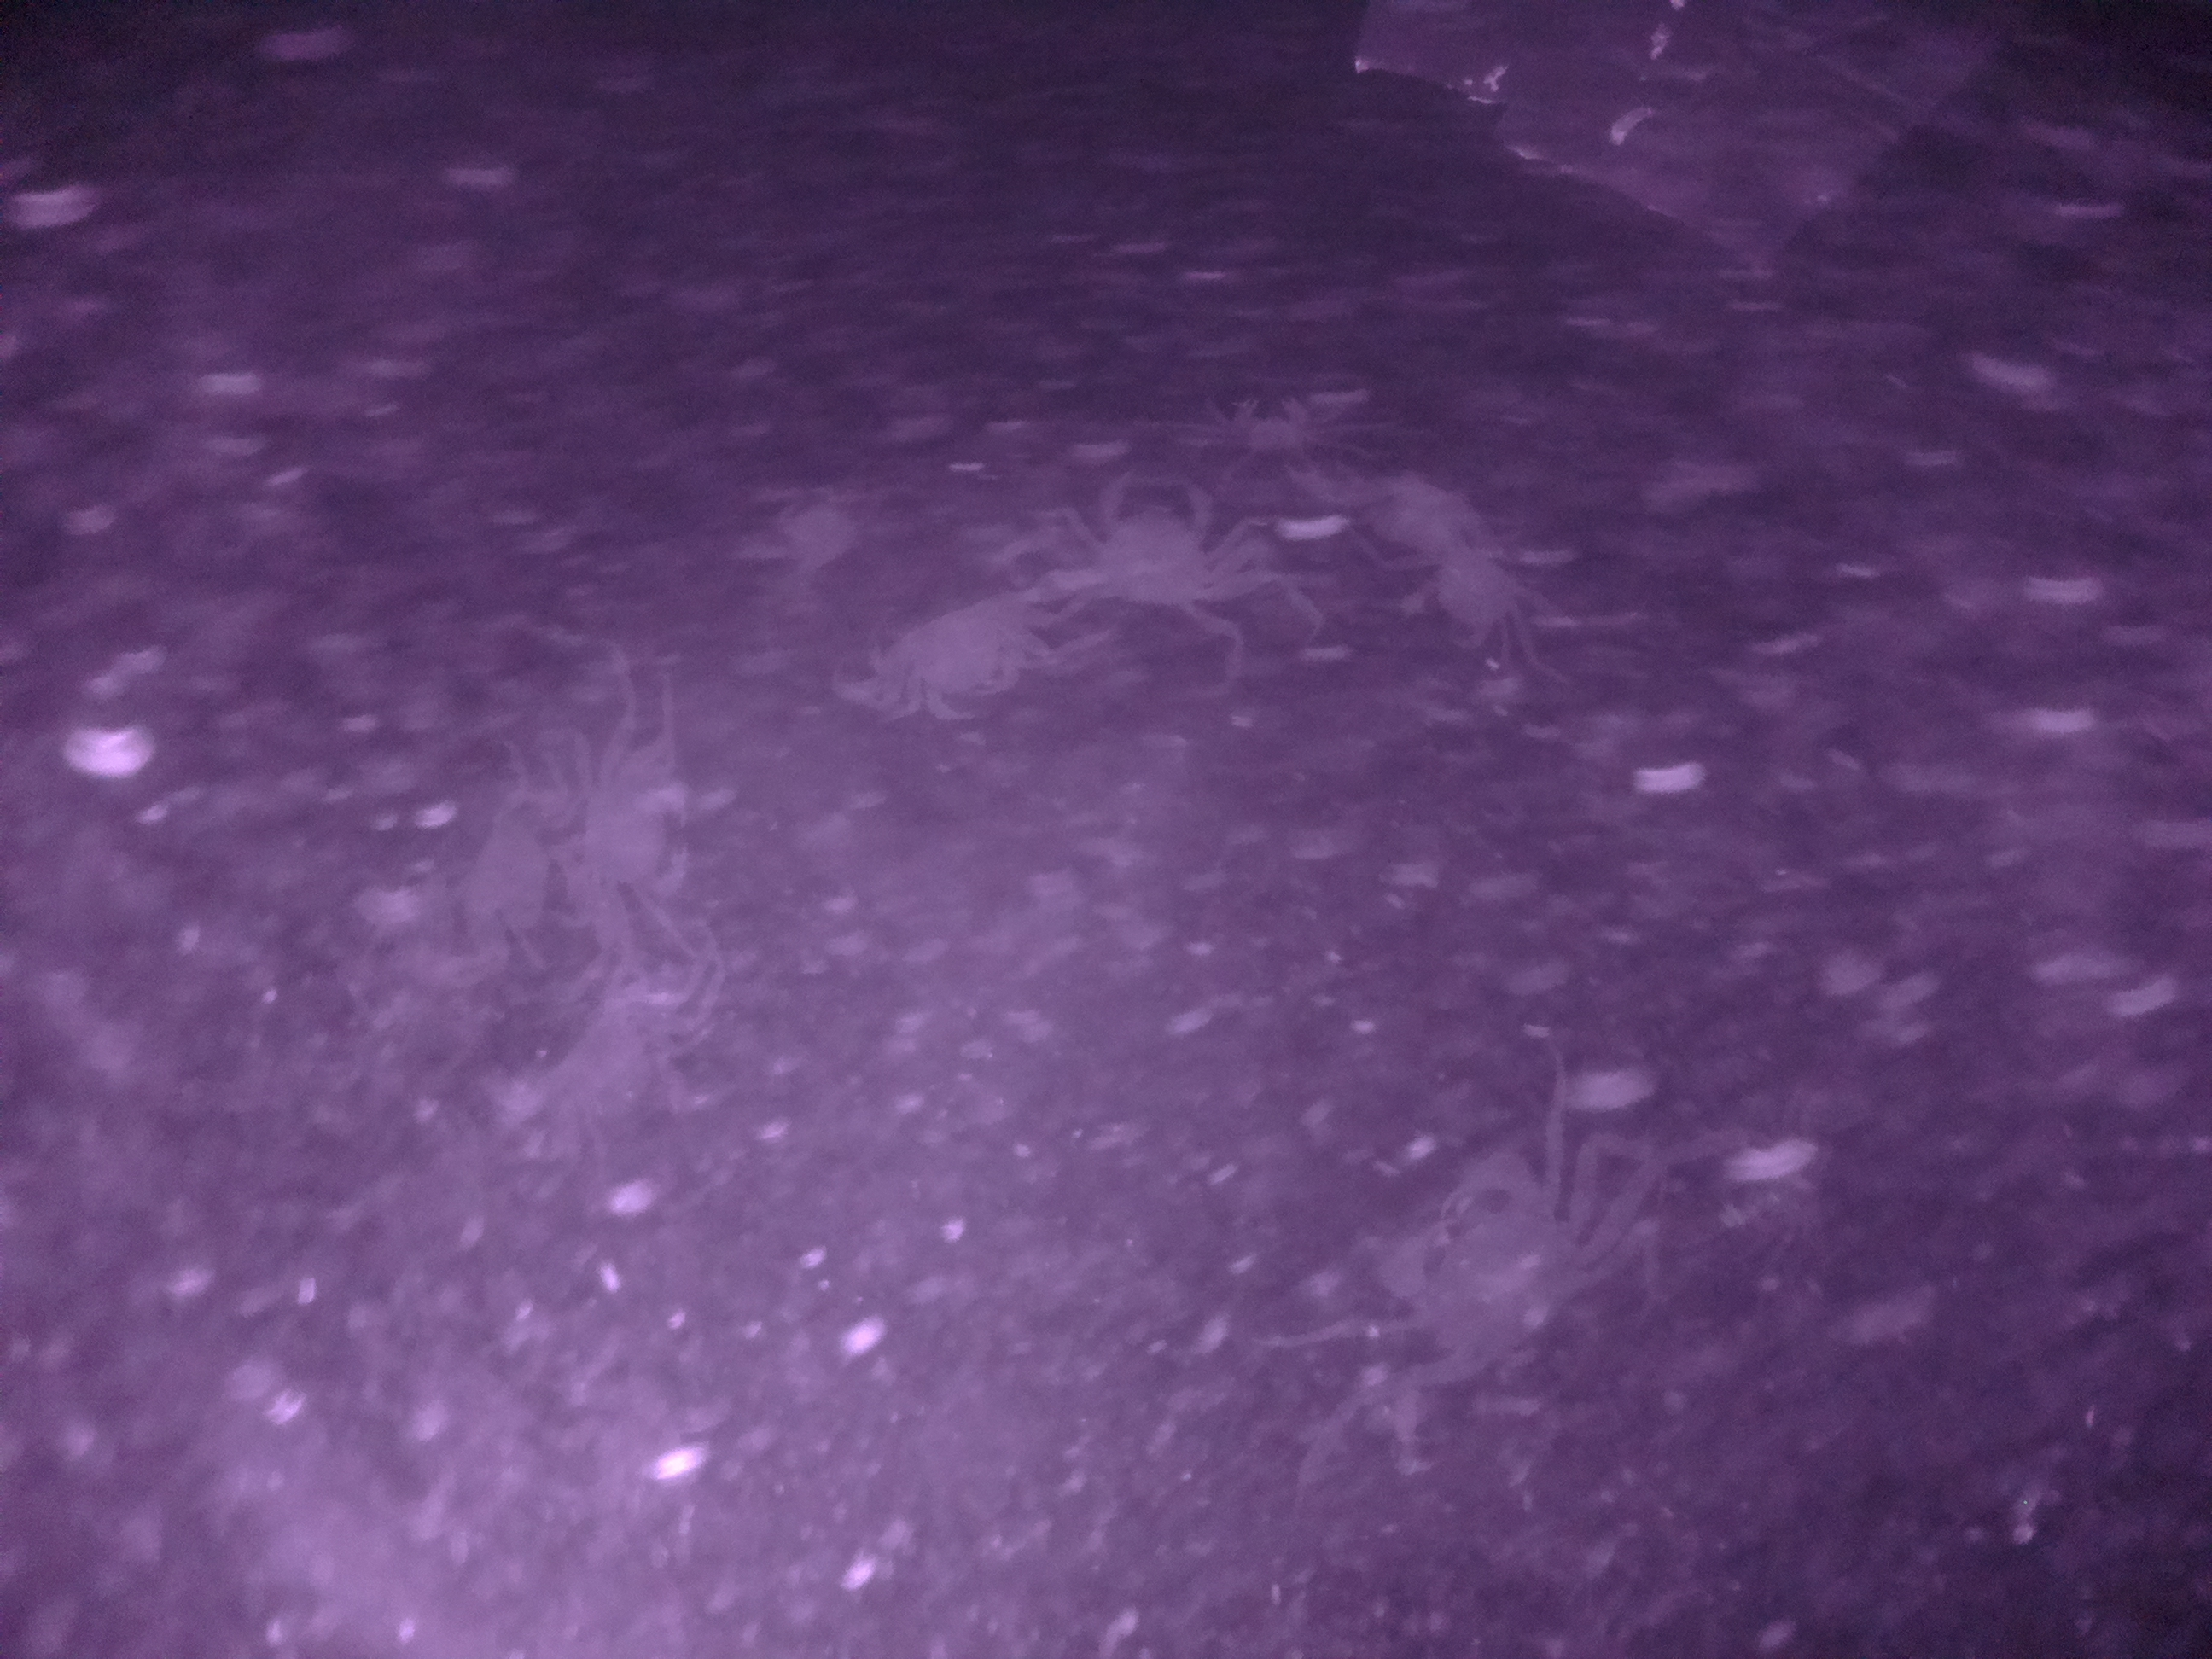Crab: (852, 587, 1115, 748), (1064, 455, 1261, 629), (559, 721, 721, 922)
